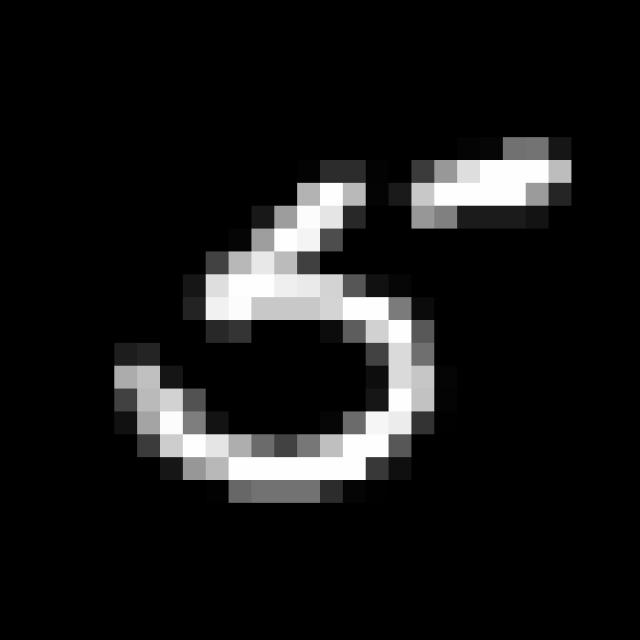five -5-: (108, 128, 590, 511)
